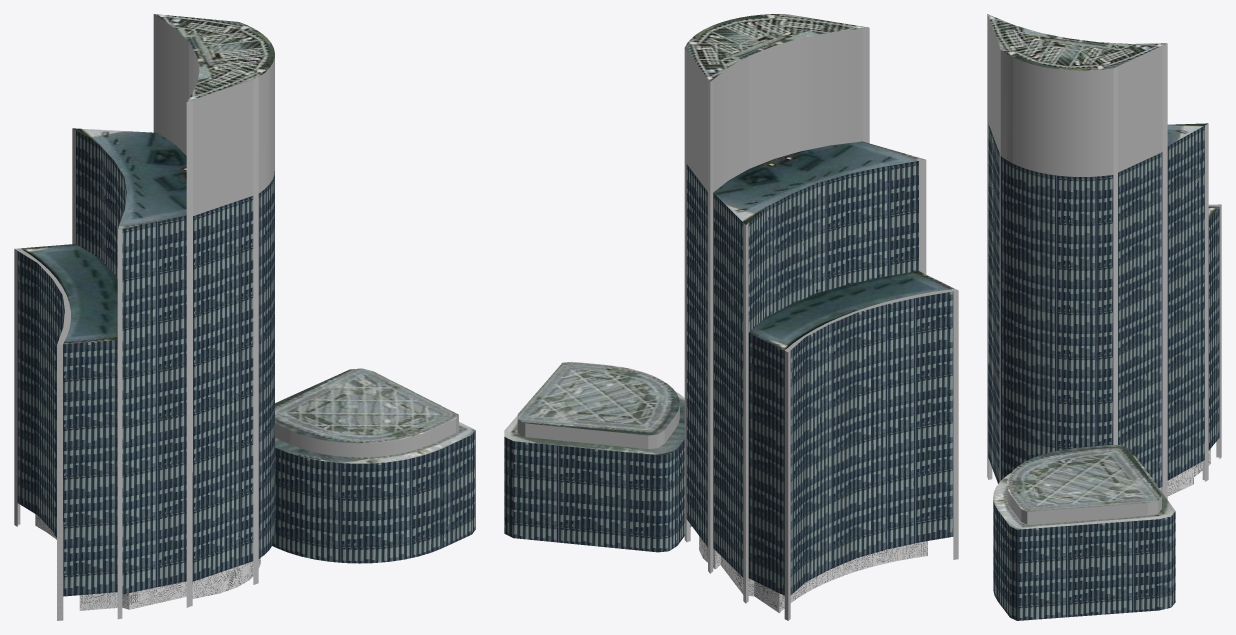
Rendered from WillisBuilding-London3Dproject.dae.
3 renders of one model, left to right at view 1: azimuth 30°, elevation 25°; view 2: azimuth 150°, elevation 25°; view 3: azimuth 270°, elevation 25°, orthographic. The views are drawn at different scales.
Visible parts, largest first — view 1: SketchUp (×22); view 2: SketchUp (×23); view 3: SketchUp (×21).
Boxes of the visible parts, left/top/right/bottom form: SketchUp (×22): left=14, top=14, right=475, bottom=620; SketchUp (×23): left=504, top=14, right=958, bottom=620; SketchUp (×21): left=987, top=14, right=1221, bottom=620.
Size of the model in its own units: 4362 by 2325 by 5154.
